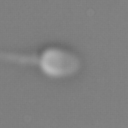normal: (1, 42, 38, 76)
